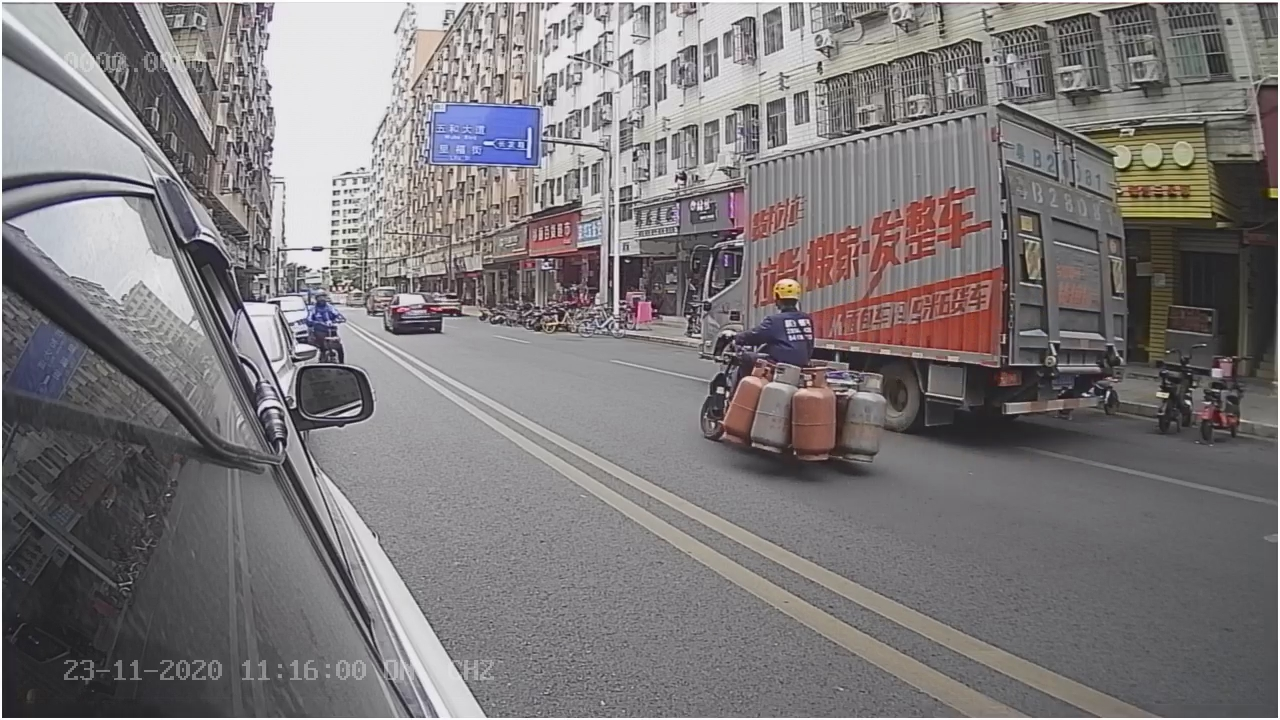person: (751, 271, 817, 365)
